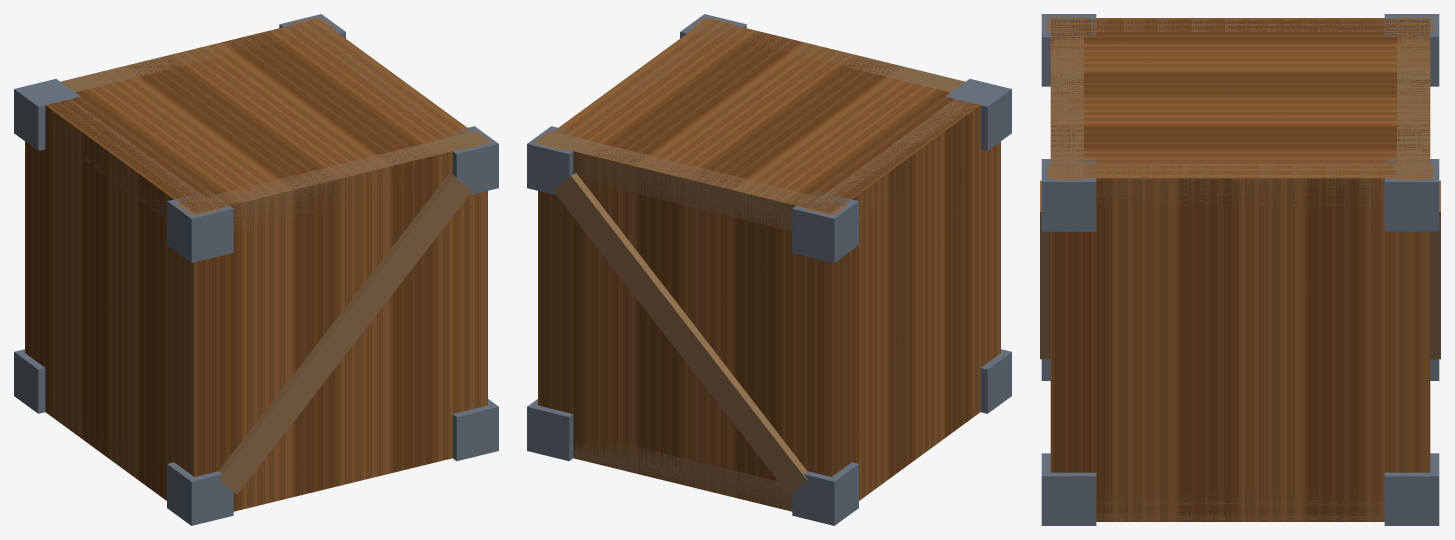
The model's file is crate_wood_breakable.glb.
3 renders of one model, left to right at view 1: azimuth 30°, elevation 25°; view 2: azimuth 150°, elevation 25°; view 3: azimuth 270°, elevation 25°, orthographic. The views are drawn at different scales.
Parts seen in each view (by area): view 1: crate_wood_breakable; view 2: crate_wood_breakable; view 3: crate_wood_breakable.
Part boxes in pixels (x1,y1,x2,y2): crate_wood_breakable: [14, 14, 498, 525]; crate_wood_breakable: [527, 14, 1011, 525]; crate_wood_breakable: [1040, 14, 1440, 525].
Bounding box in the file's own units: 1.31 × 1.25 × 1.32.
Materials: 3 (1 with a texture image).
